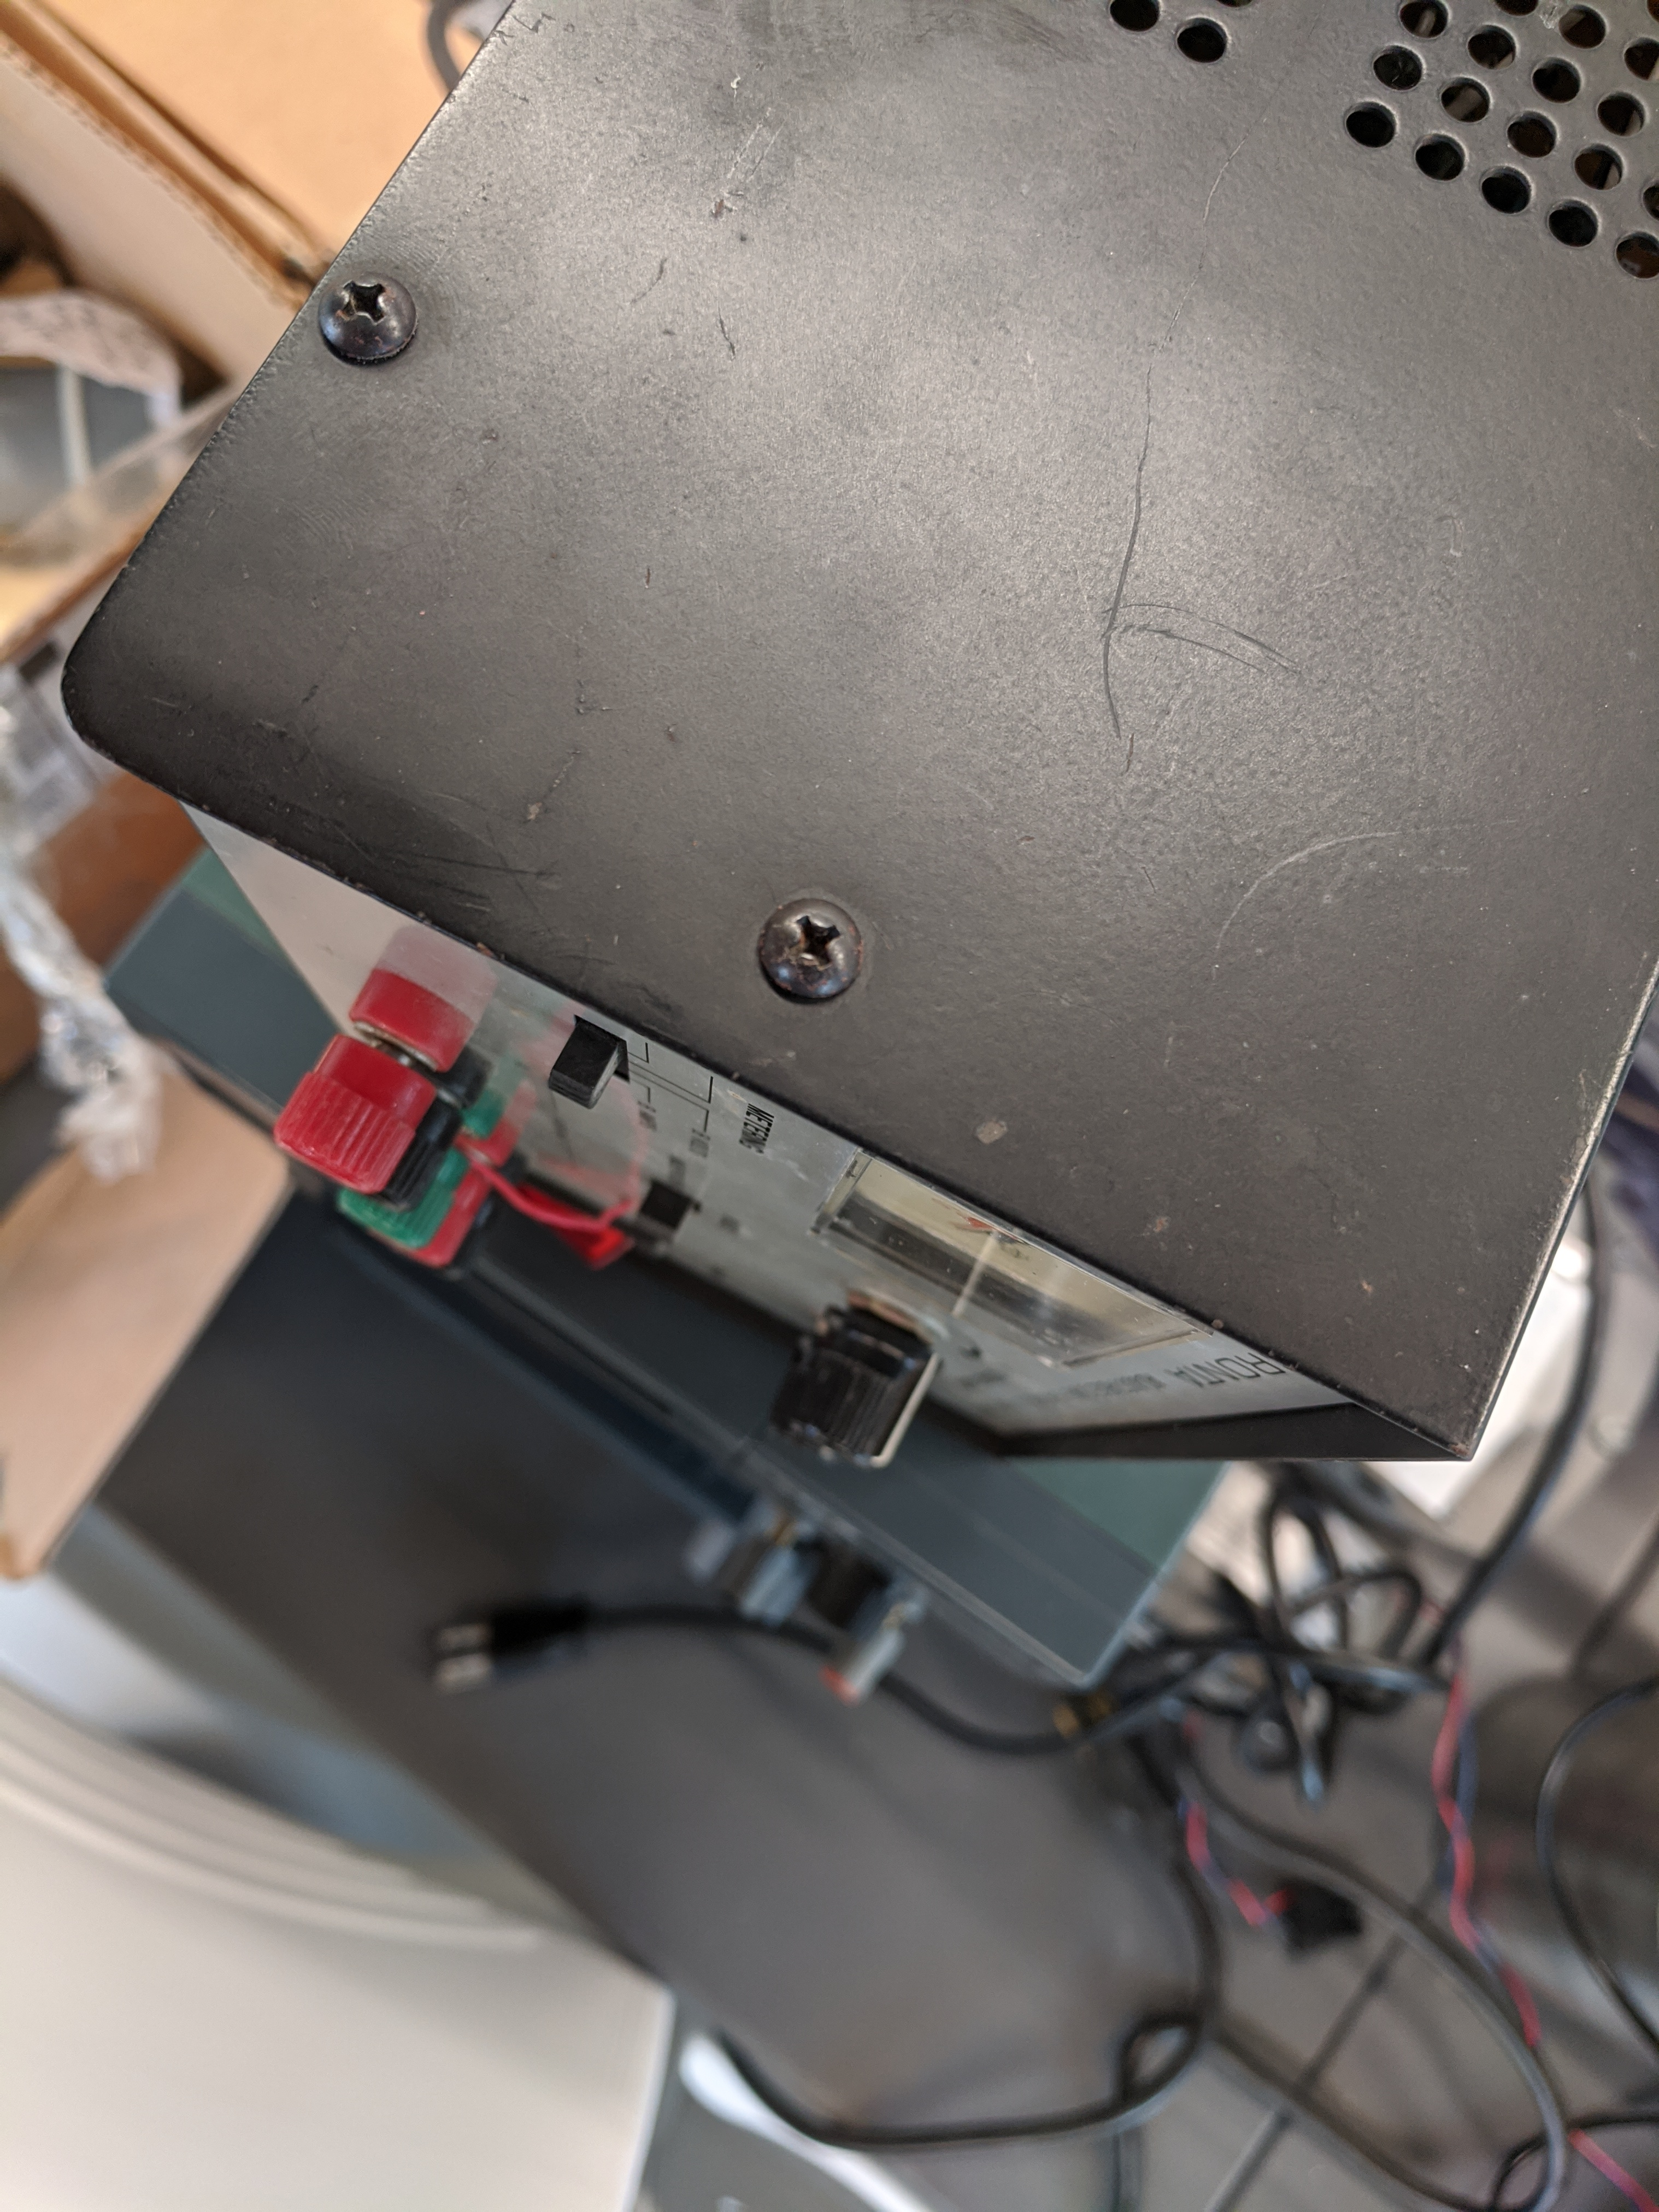cross_recessed_screw: (748, 874, 875, 1005), (308, 261, 406, 350)
